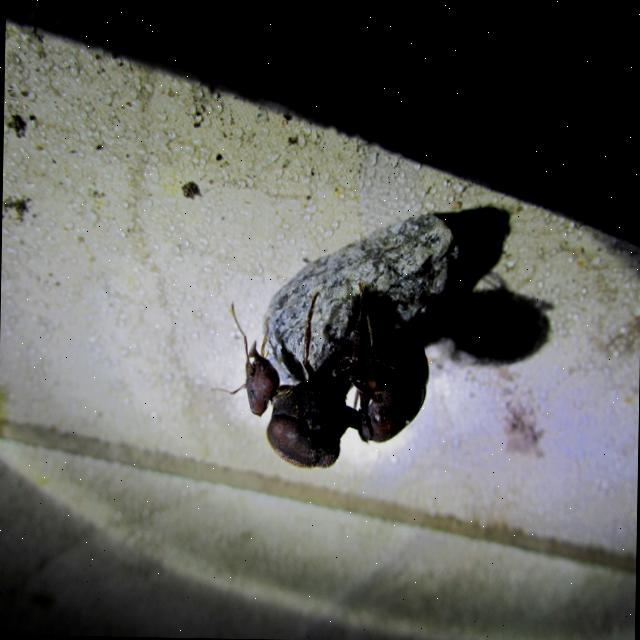Alive-Female-Dealate: (208, 279, 430, 472)
